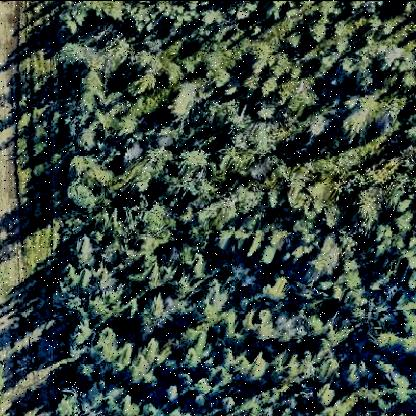tree-top: (126, 52, 164, 100), (143, 202, 181, 250), (89, 323, 128, 368), (338, 94, 376, 138), (350, 186, 384, 230), (166, 81, 202, 121), (272, 310, 308, 346), (175, 142, 211, 178), (54, 41, 90, 75), (53, 381, 85, 416), (68, 146, 101, 178), (260, 270, 292, 302), (93, 382, 125, 414), (54, 8, 85, 41), (303, 108, 331, 144), (244, 347, 272, 383), (157, 2, 199, 26), (80, 2, 130, 22), (67, 184, 100, 214), (140, 292, 170, 324), (388, 370, 415, 405), (193, 290, 221, 322), (375, 42, 403, 74), (86, 297, 118, 324), (319, 198, 343, 232), (74, 126, 103, 153), (372, 328, 401, 354), (73, 232, 99, 261), (130, 351, 154, 382), (305, 19, 331, 47), (389, 212, 416, 238), (314, 381, 338, 409), (212, 223, 236, 251), (253, 96, 279, 121), (259, 235, 283, 261), (305, 314, 328, 340), (342, 359, 364, 386), (192, 375, 219, 397), (227, 1, 256, 21), (397, 331, 416, 359), (138, 397, 166, 416), (67, 322, 91, 344), (256, 243, 277, 268), (78, 361, 100, 383), (184, 345, 202, 371), (162, 383, 181, 405)
